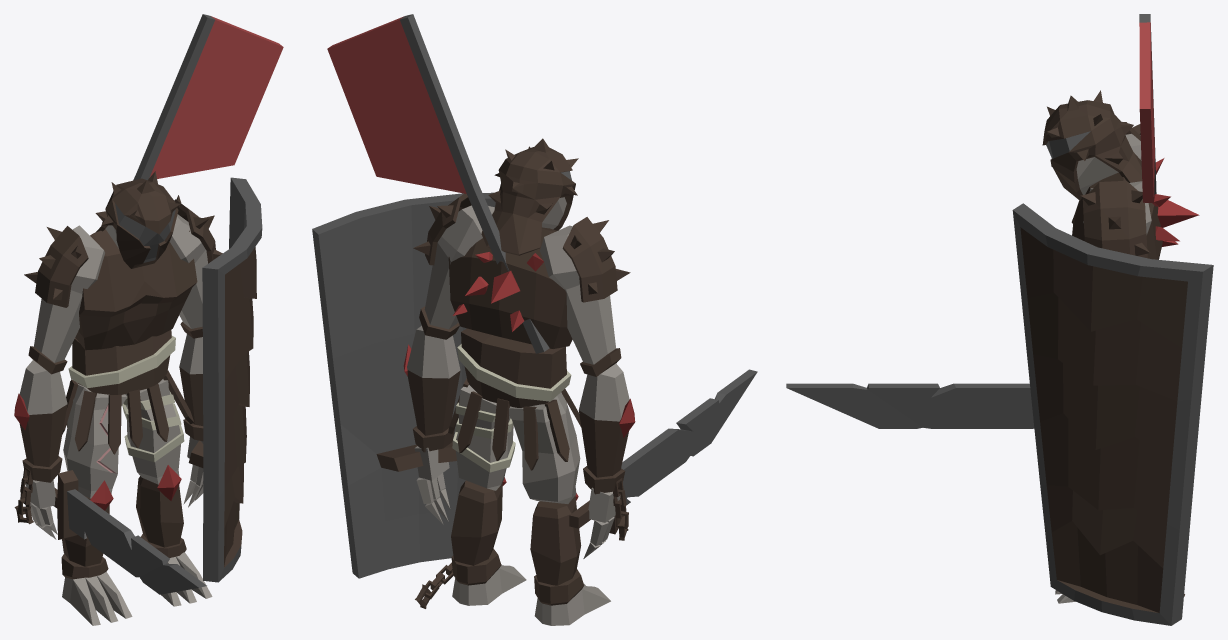
File: FanaticsWarchief.fbx
3 views of the same model, side by side, from view 1: azimuth 30°, elevation 25°; view 2: azimuth 150°, elevation 25°; view 3: azimuth 270°, elevation 25° (orthographic). The views are drawn at different scales.
Visible parts, largest first — view 1: pCube10, pCube11, polySurface168, pCube9, polySurface154, polySurface198, polySurface167, polySurface202, polySurface170, polySurface195, polySurface169, polySurface201 (+14 smaller); view 2: pCube10, pCube11, polySurface168, polySurface154, polySurface167, pCube9, polySurface198, polySurface172, polySurface202, polySurface170, polySurface200, polySurface157 (+13 smaller); view 3: pCube10, pCube9, polySurface154, polySurface203, pCube11, pPlatonic12, polySurface168.
Boxes of the visible parts, x1=… form: pCube10: x1=188, y1=177, x2=262, y2=582; pCube11: x1=133, y1=14, x2=283, y2=180; polySurface168: x1=75, y1=229, x2=197, y2=350; pCube9: x1=53, y1=470, x2=206, y2=594; polySurface154: x1=95, y1=171, x2=180, y2=268; polySurface198: x1=14, y1=360, x2=67, y2=524; polySurface167: x1=68, y1=330, x2=175, y2=394; polySurface202: x1=28, y1=225, x2=104, y2=374; polySurface170: x1=63, y1=381, x2=126, y2=498; polySurface195: x1=122, y1=379, x2=184, y2=484; polySurface169: x1=61, y1=553, x2=132, y2=625; polySurface201: x1=24, y1=226, x2=88, y2=307; pCube10: x1=312, y1=192, x2=495, y2=578; pCube11: x1=327, y1=14, x2=549, y2=353; polySurface168: x1=448, y1=227, x2=572, y2=348; polySurface154: x1=481, y1=138, x2=578, y2=255; polySurface167: x1=457, y1=328, x2=571, y2=407; pCube9: x1=569, y1=369, x2=757, y2=534; polySurface198: x1=578, y1=363, x2=629, y2=540; polySurface172: x1=407, y1=325, x2=460, y2=452; polySurface202: x1=540, y1=225, x2=621, y2=376; polySurface170: x1=509, y1=392, x2=580, y2=503; polySurface200: x1=419, y1=205, x2=494, y2=339; polySurface157: x1=530, y1=495, x2=581, y2=585; pCube10: x1=1012, y1=203, x2=1213, y2=625; pCube9: x1=786, y1=383, x2=1034, y2=428; polySurface154: x1=1042, y1=90, x2=1142, y2=200; polySurface203: x1=1080, y1=180, x2=1149, y2=258; pCube11: x1=1139, y1=14, x2=1156, y2=202; pPlatonic12: x1=1152, y1=158, x2=1199, y2=246; polySurface168: x1=1071, y1=172, x2=1162, y2=259.
Size of the model in its own units: 5.55 by 10.41 by 6.64.
